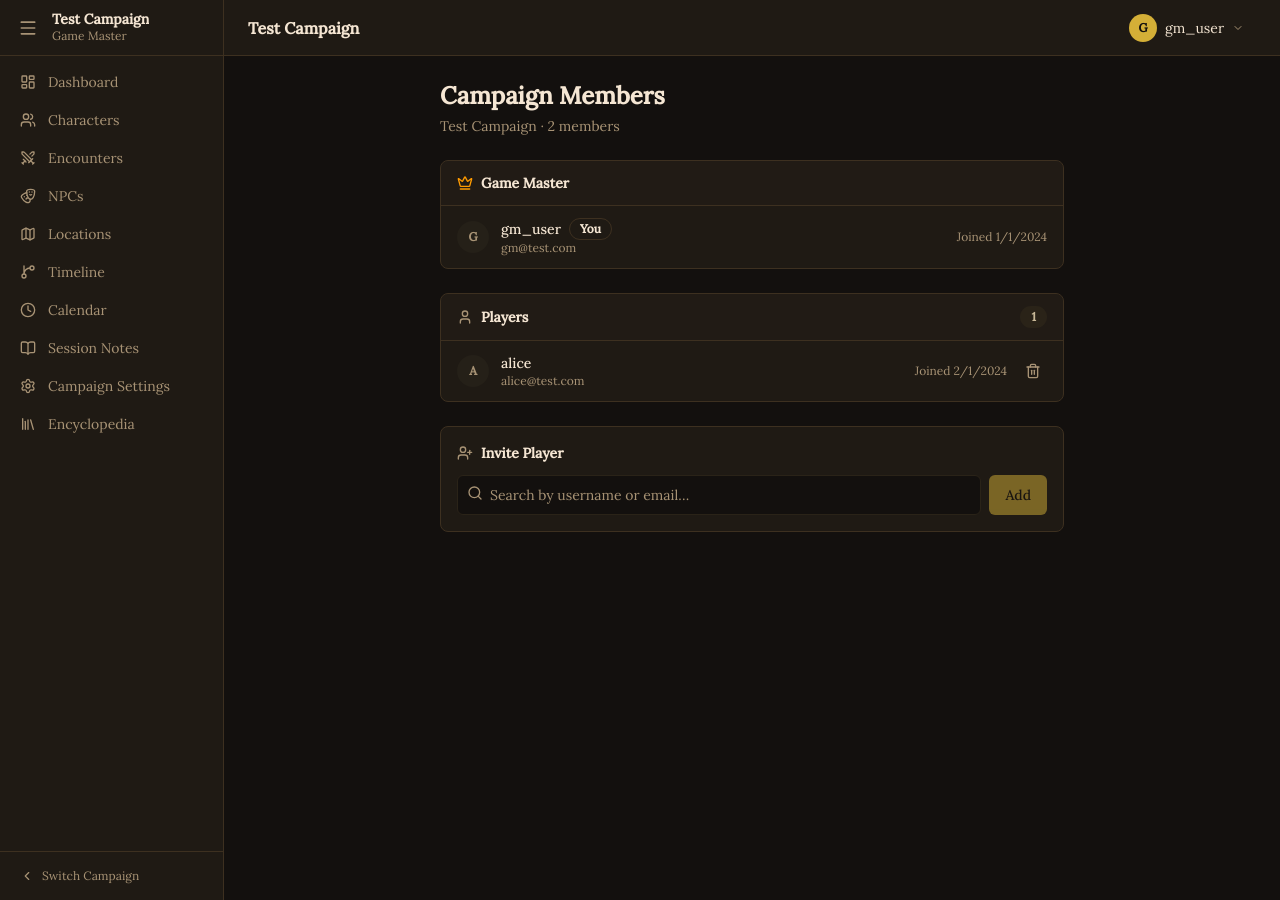
CampaignMembers › filters existing members from search results
Step 1. Type "al" into the field with test id "invite-search" → x=719, y=495, box [457,475,981,515]
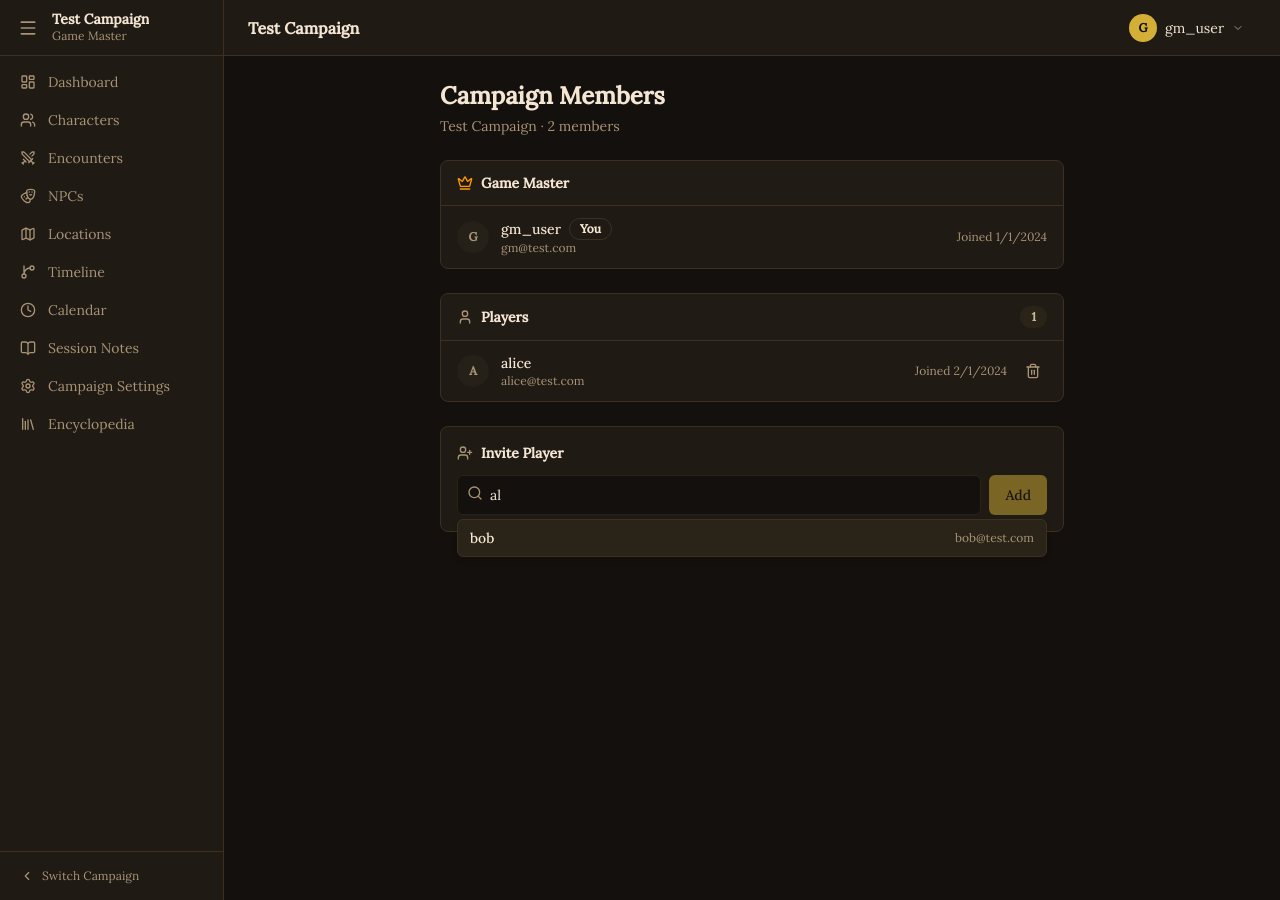
Now the element with test id "search-dropdown" is shown, box [457,519,1047,557]
Now the button with test id "search-result-99" is shown, box [458,520,1046,556]
